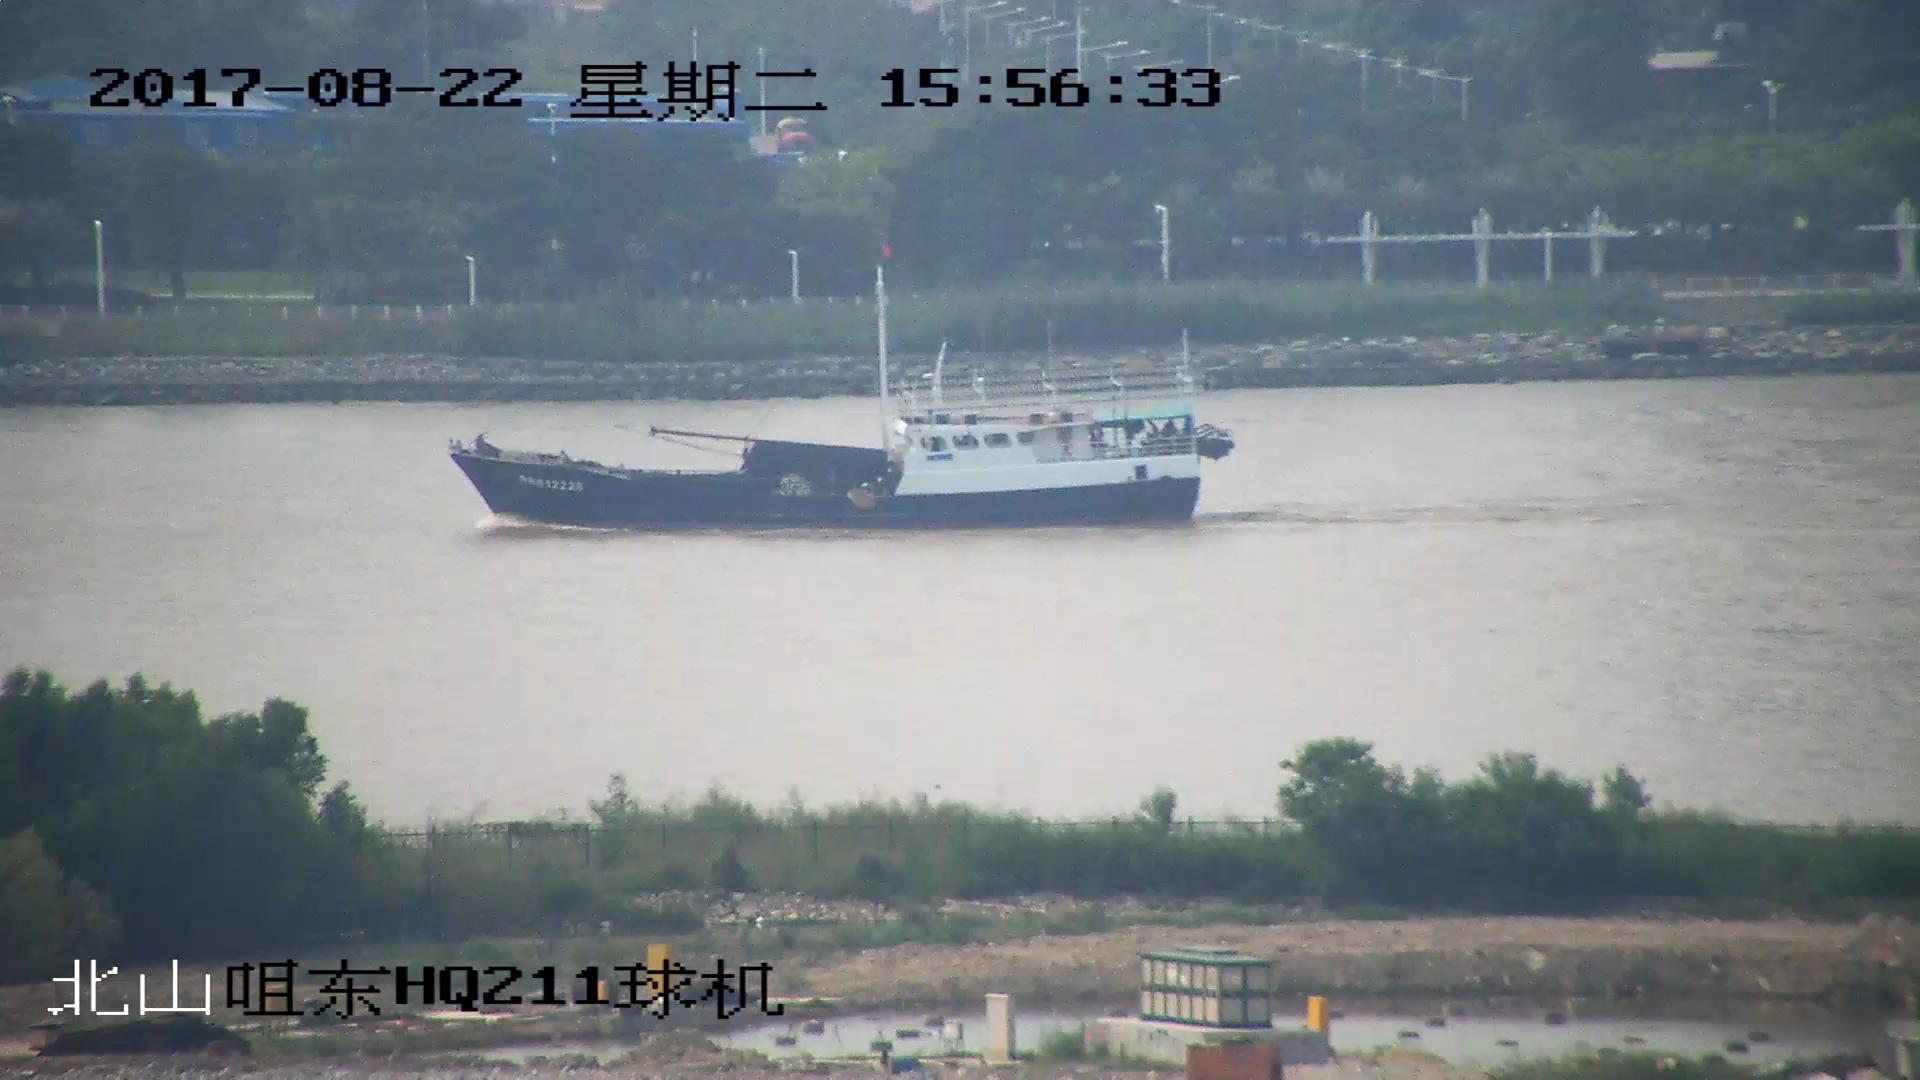fishing boat: (459, 243, 1237, 531)
